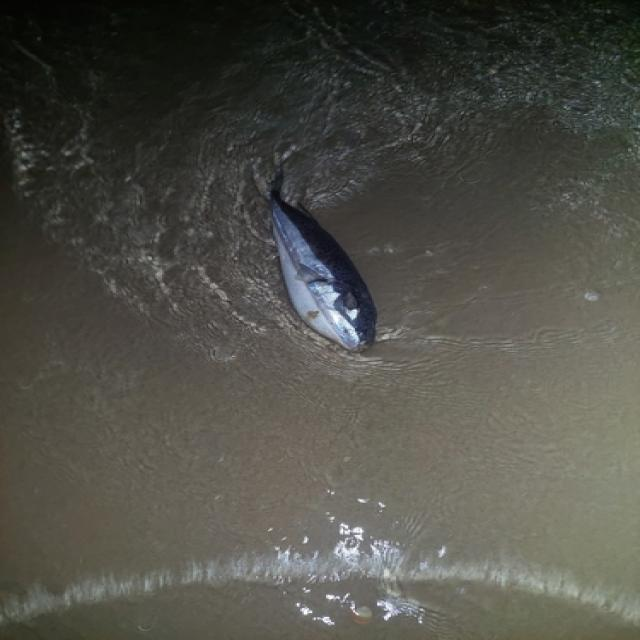Balik: (272, 171, 377, 350)
